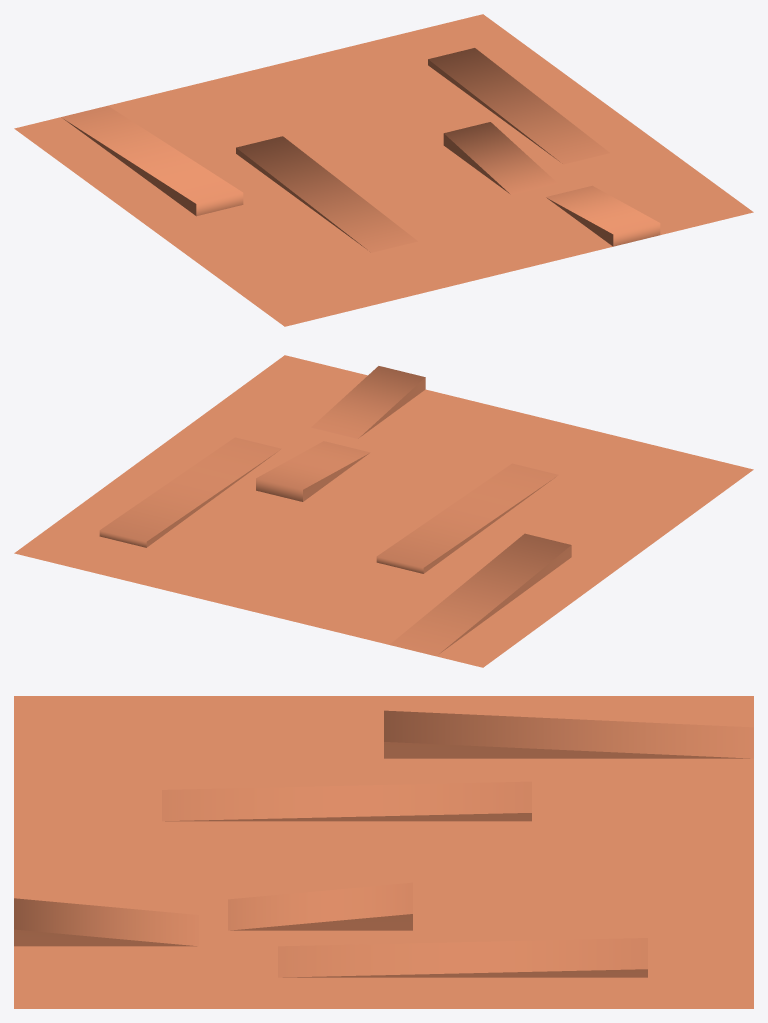
Rendered from floor-wood.glb.
3 renders of one model, top to bottom at view 1: azimuth 30°, elevation 25°; view 2: azimuth 150°, elevation 25°; view 3: azimuth 270°, elevation 25°, orthographic. The views are drawn at different scales.
Parts seen in each view (by area): view 1: floor-wood; view 2: floor-wood; view 3: floor-wood.
Boxes of the visible parts, x1,y1,x2,y2 form: floor-wood: (14,14,753,326); floor-wood: (14,355,753,667); floor-wood: (14,696,753,1008).
Size of the model in its own units: 1 by 0.025 by 1.
Materials: 1 (1 with a texture image).
